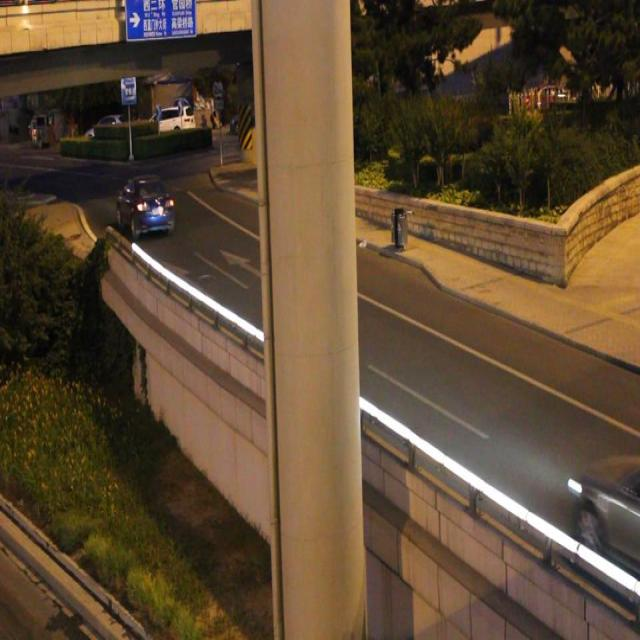car: (567, 452, 640, 576), (118, 174, 176, 235)
